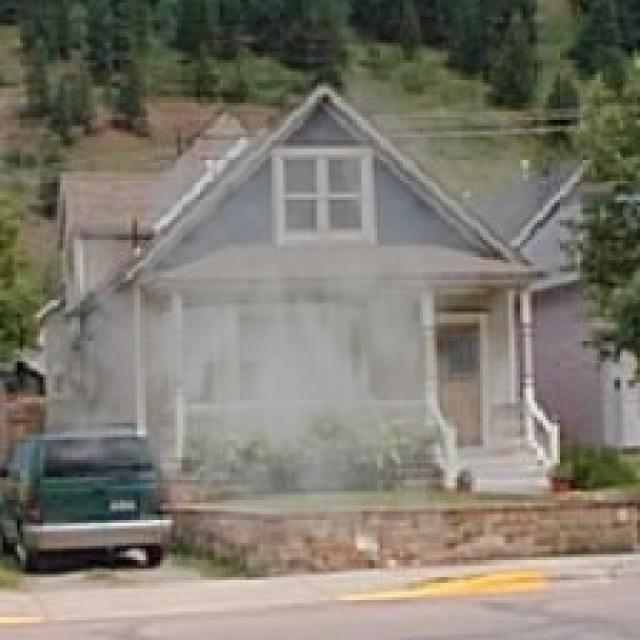smoke: (40, 54, 554, 609)
